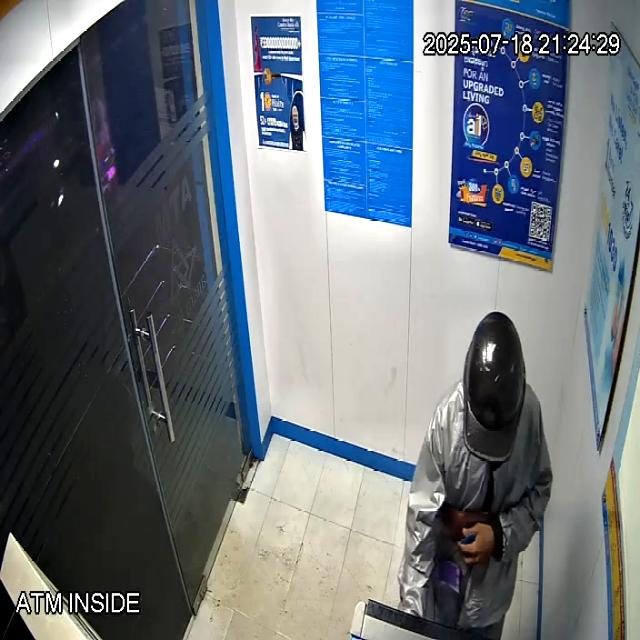helmet: (463, 311, 527, 461)
